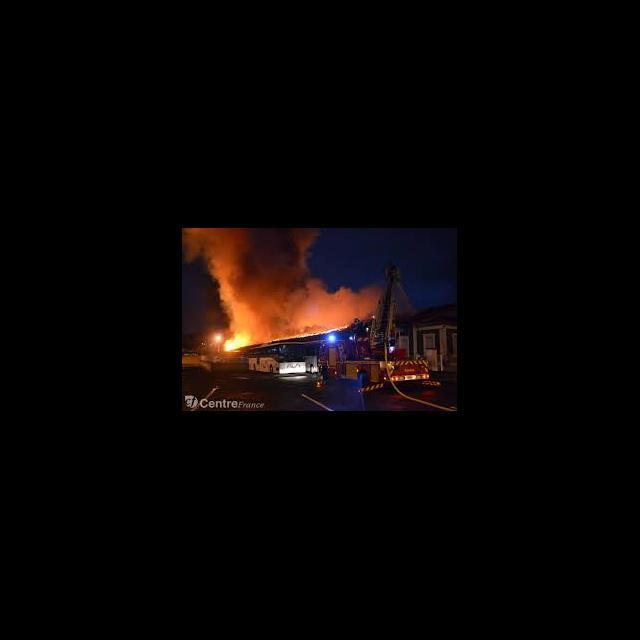Fire: (224, 312, 258, 353)
